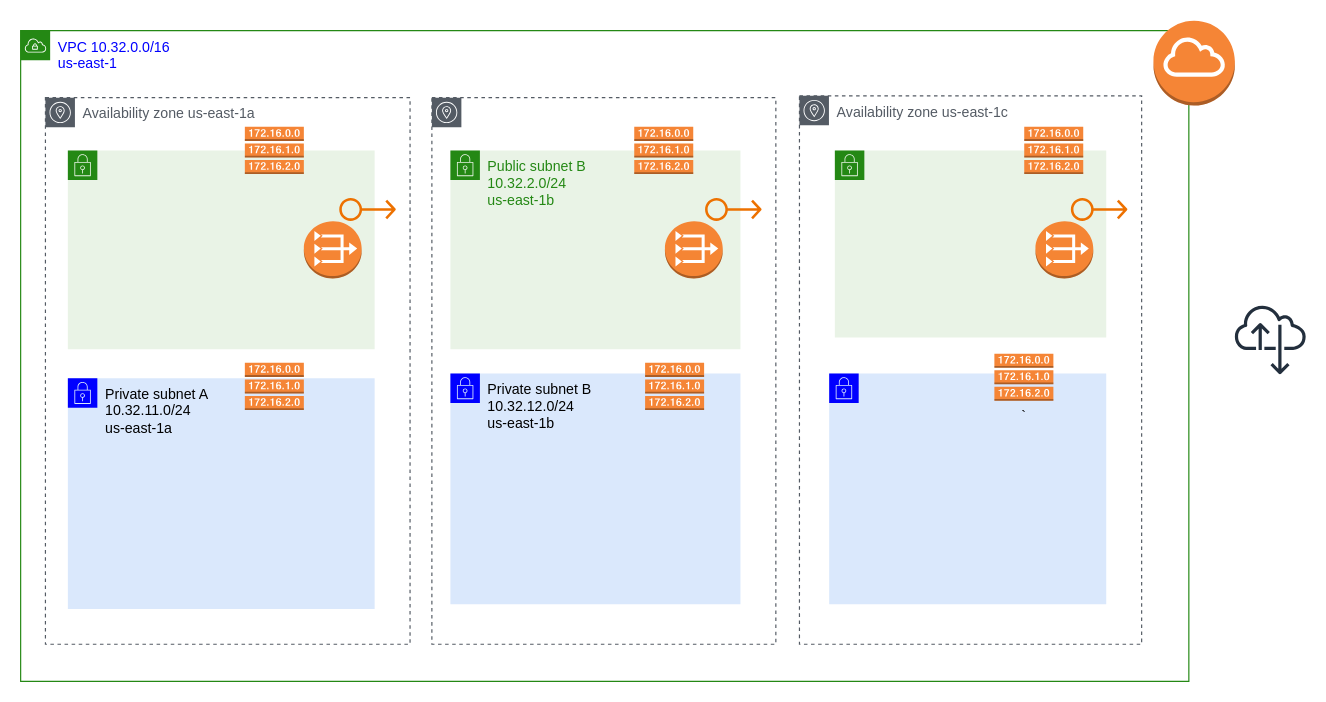
The diagram is 1326 pixels wide and 702 high, and some of its shapes have lost their labels. Here are the shapes that lost their labels. From the top down, the box of each, then its label:
(67, 149, 375, 349): Public subnet A 10.32.1.0/24 us-east-1a
(834, 149, 1106, 337): Public subnet B 10.32.3.0/24 us-east-1c
(431, 97, 776, 644): Availability zone us-east-1b
(828, 372, 1106, 604): Private subnet C 10.32.13.0/24 us-east-1c
